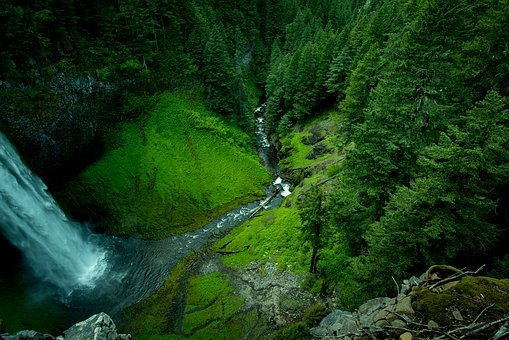forest: (12, 10, 509, 329)
waterfall: (1, 147, 267, 326)
